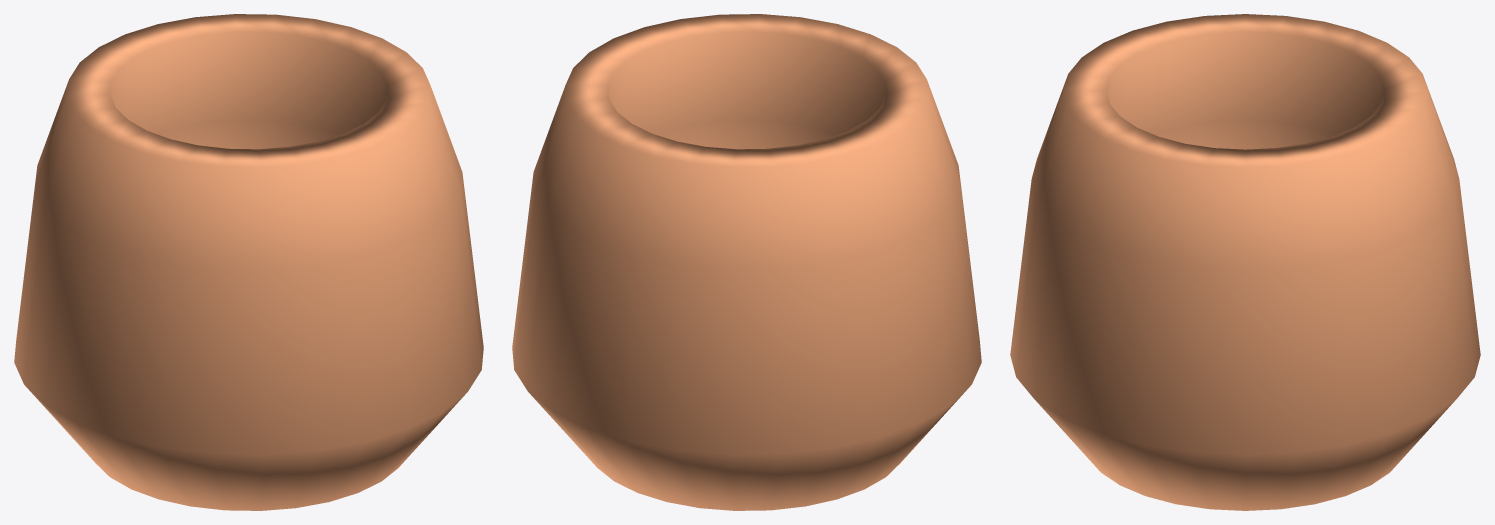
Rendered from barrel-sponge.glb.
3 renders of one model, left to right at view 1: azimuth 30°, elevation 25°; view 2: azimuth 150°, elevation 25°; view 3: azimuth 270°, elevation 25°, orthographic.
Visible parts, largest first — view 1: barrel-sponge; view 2: barrel-sponge; view 3: barrel-sponge.
Boxes of the visible parts, bbox=[...] form: barrel-sponge: bbox=[14, 14, 483, 510]; barrel-sponge: bbox=[512, 14, 981, 510]; barrel-sponge: bbox=[1010, 14, 1480, 510].
Size of the model in its own units: 1.21 by 1 by 1.21.
